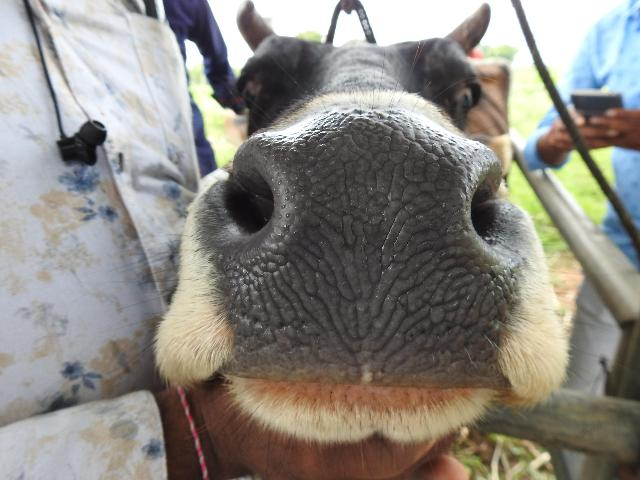Muzzle: (245, 142, 483, 370)
